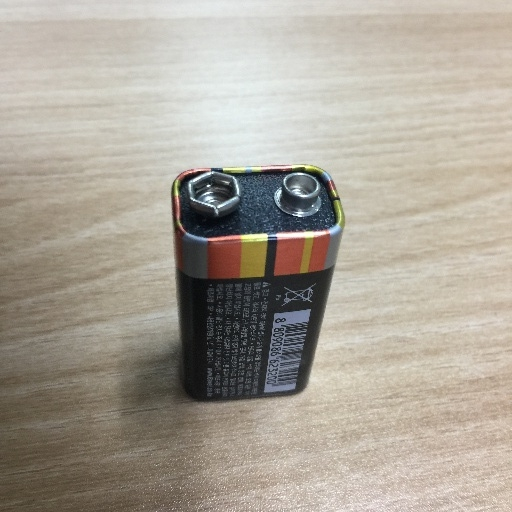Battery_3: (155, 153, 354, 421)
